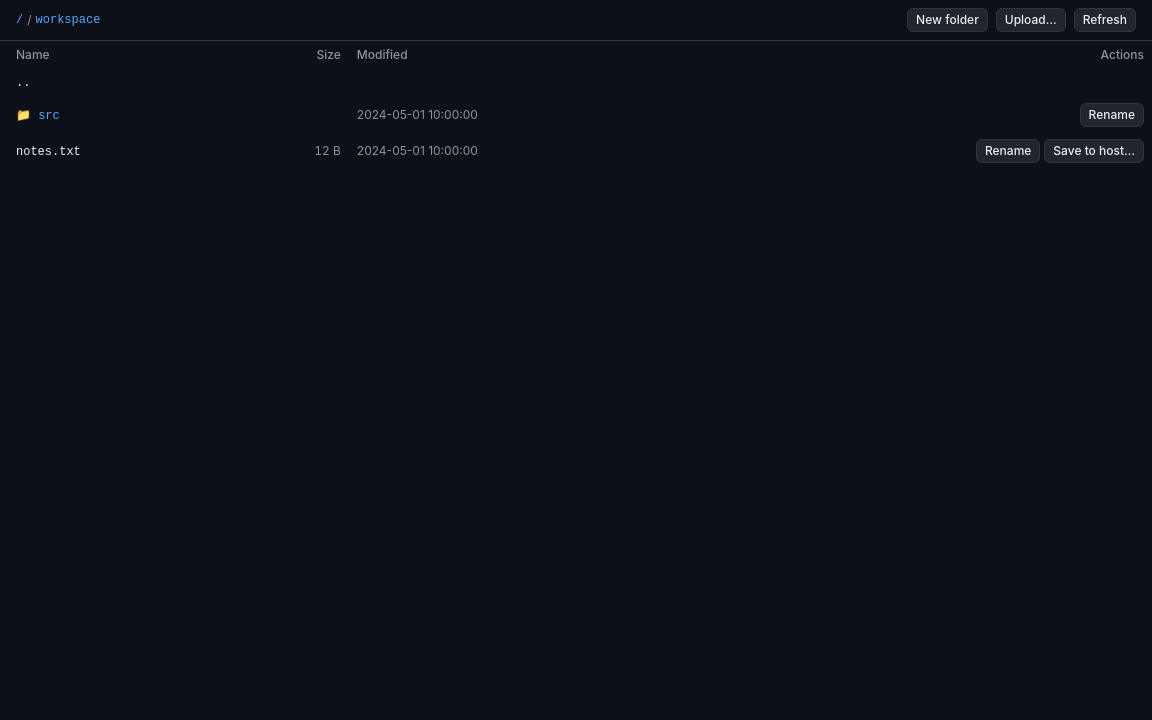
it: FilesTab viewer › says so in words when only a prefix of a big text file came back
The image size is (1152, 720).
Double-click the text "notes.txt": (48, 152) top-left (16, 144), bottom-right (81, 158)
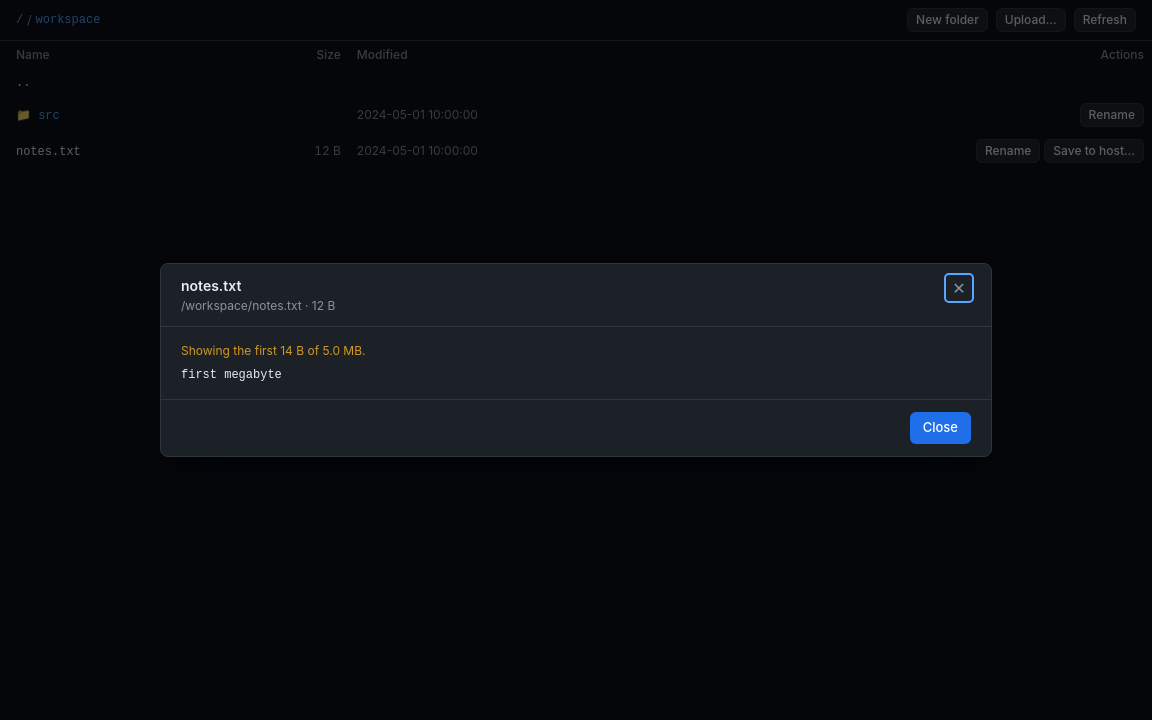
Expected: the text "Showing the first 14 B of 5.0 MB." is shown, top-left (181, 343), bottom-right (366, 358)
Expected: the text "first megabyte" is shown, top-left (181, 368), bottom-right (282, 382)
